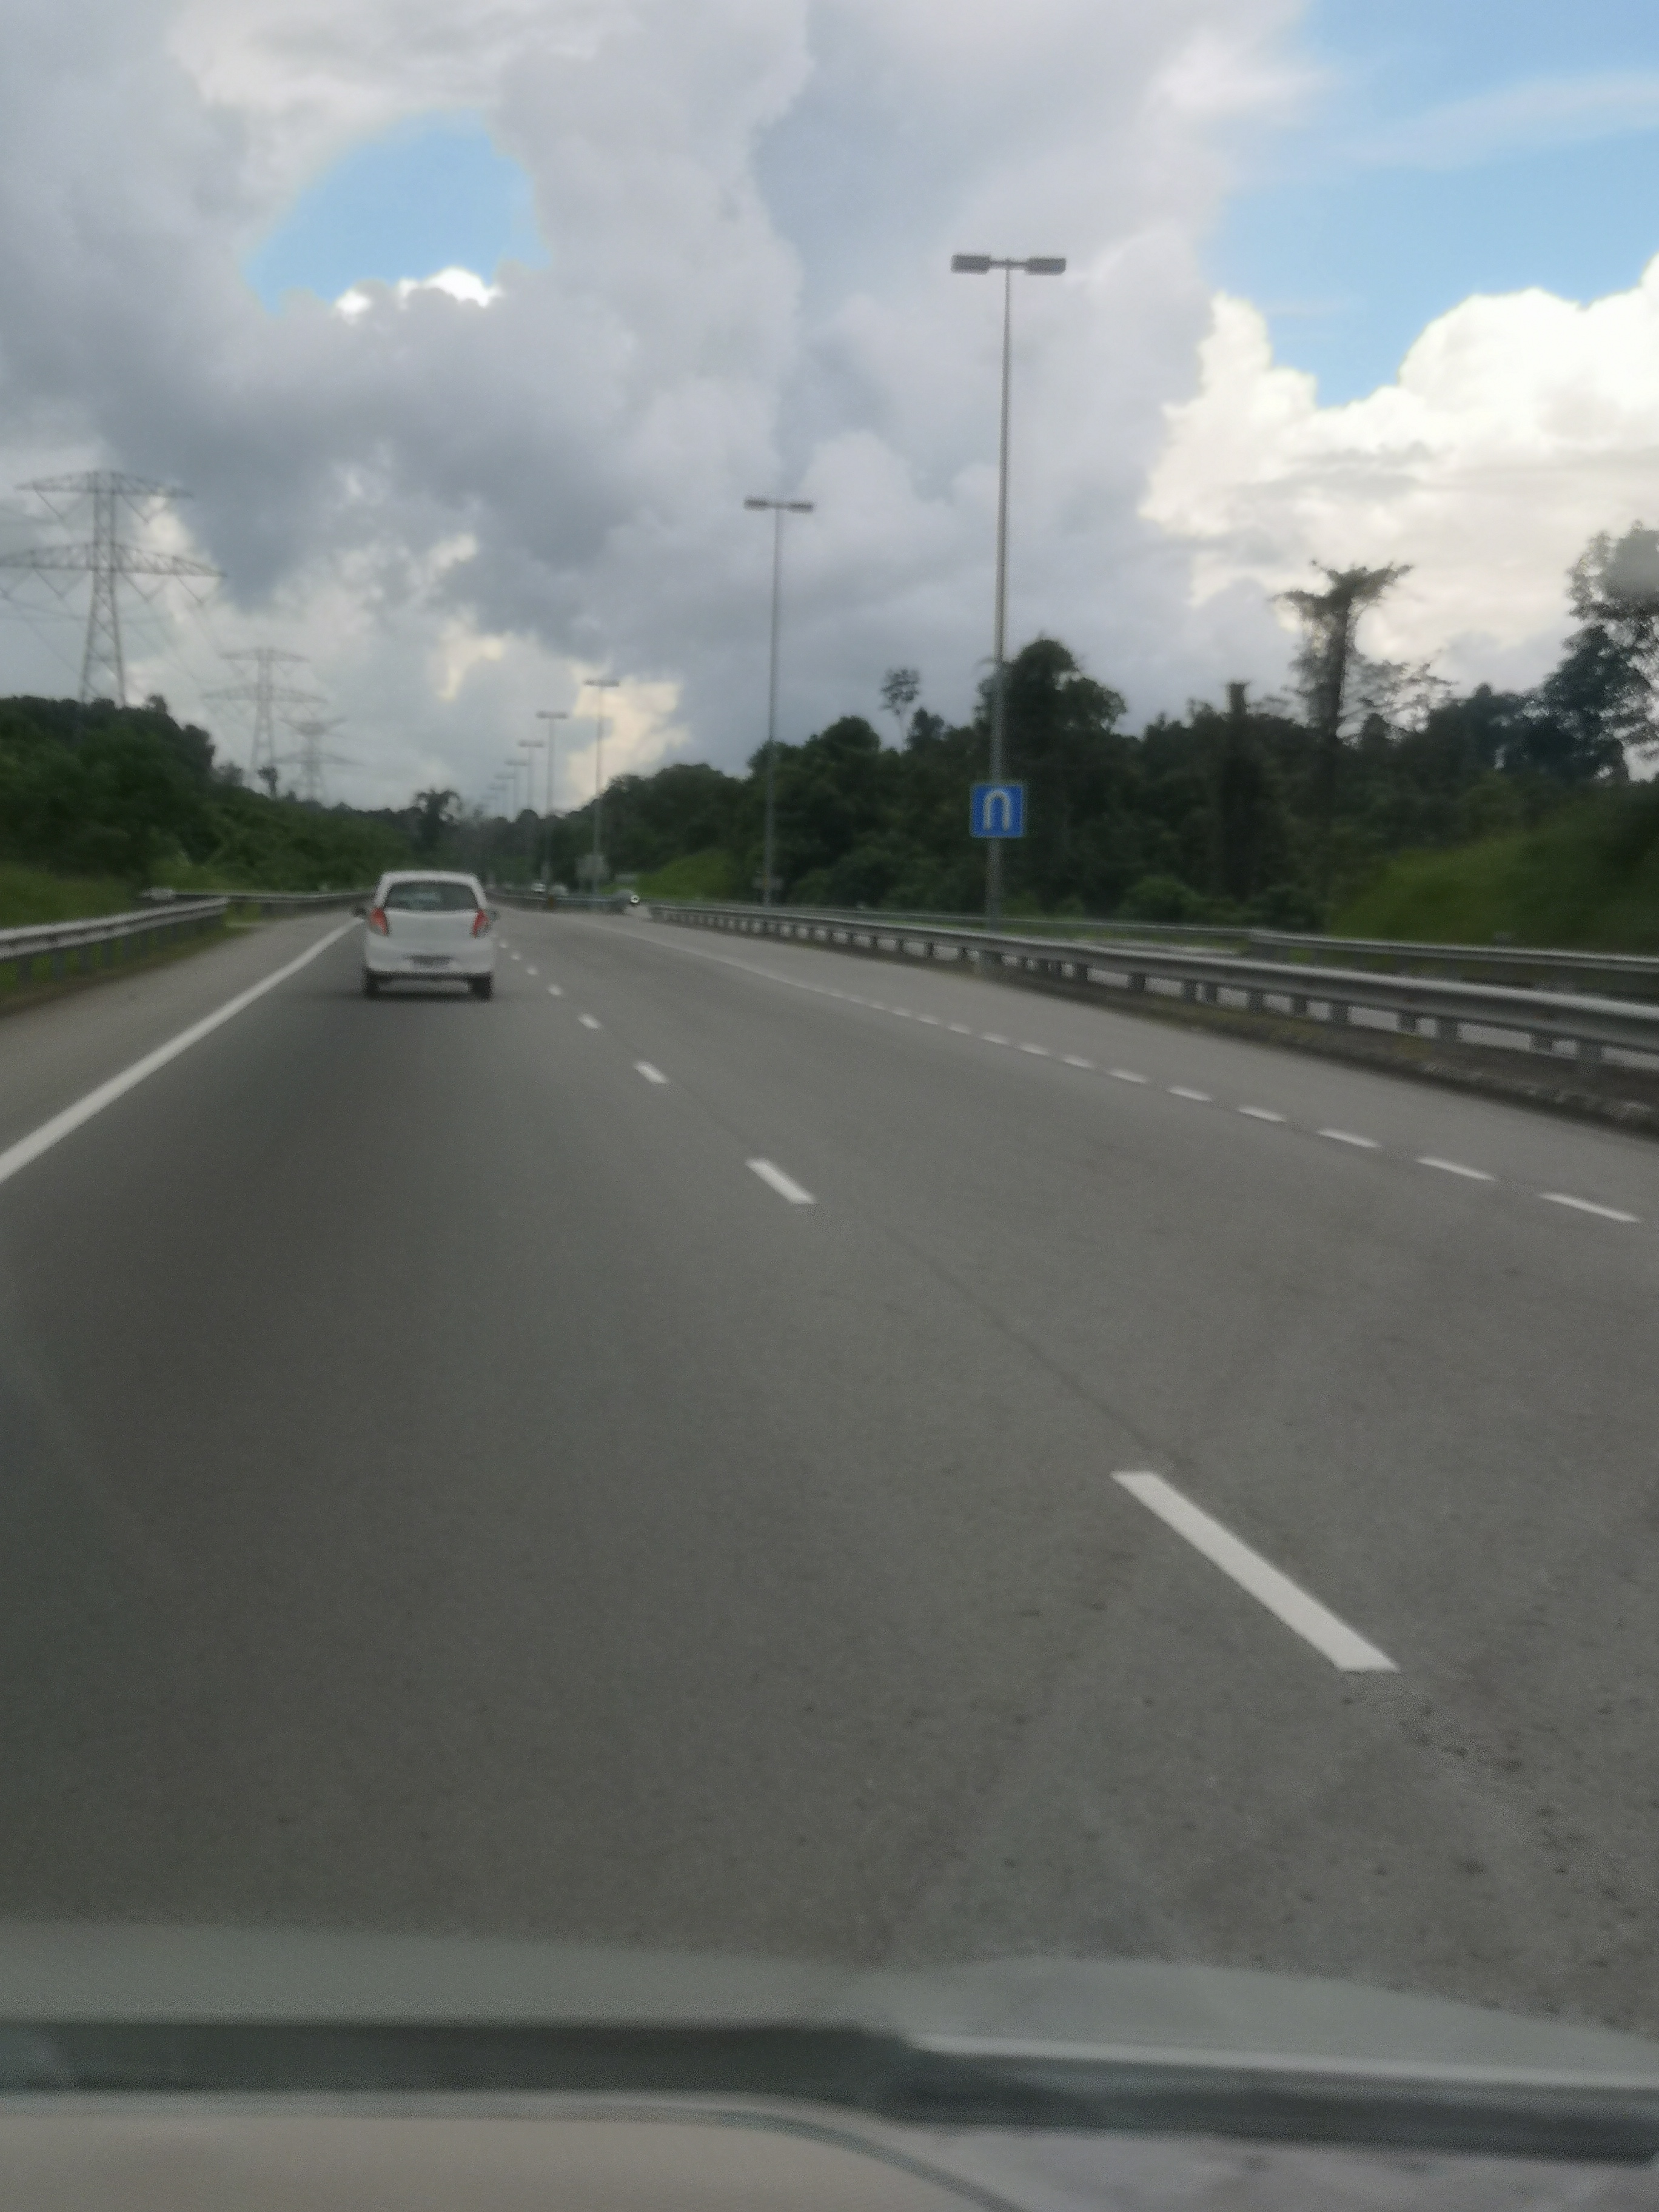U-turn: (962, 777, 1042, 845)
